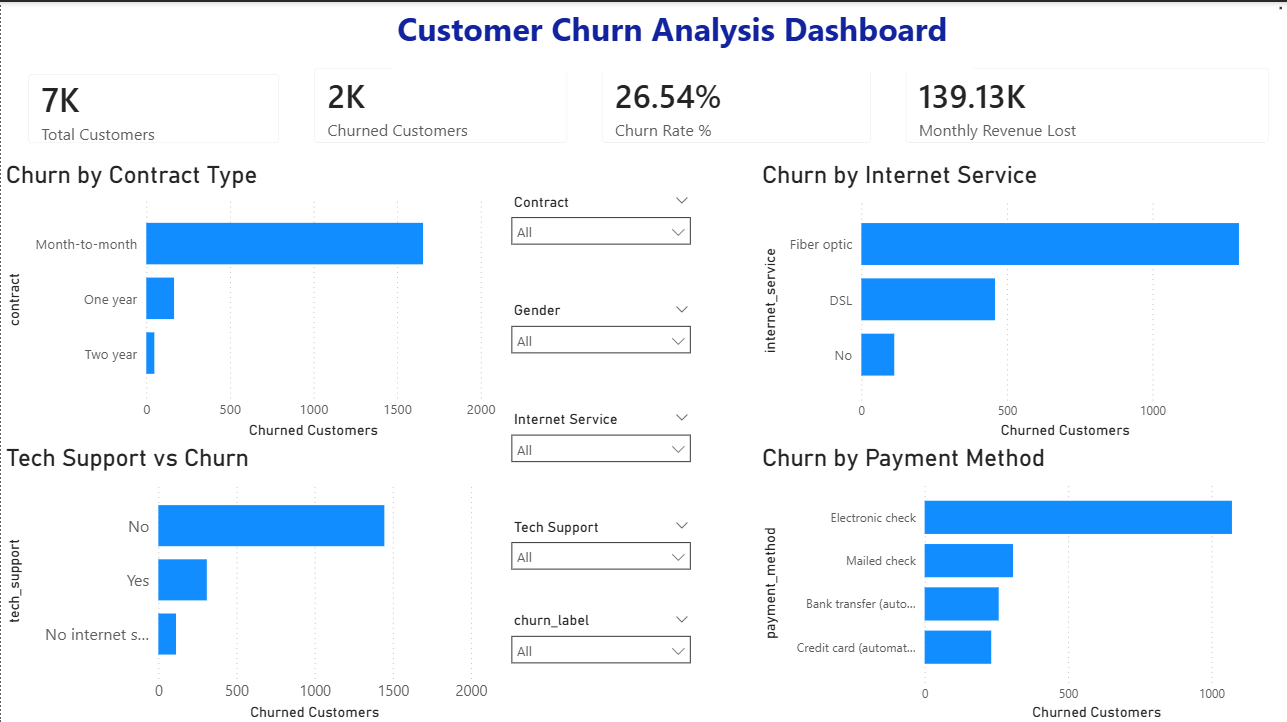

The page's visual inventory and layout, read from the dashboard file:
{"tool":"powerbi","page":{"name":"Executive Overview","canvas":[1280,720],"ordinal":0},"visuals":[{"type":"cardVisual","fields":{"Data":["cleaned_churn_data.Total Customers"]},"box":[10,54.7,284.9,103.2],"z":0},{"type":"cardVisual","fields":{"Data":["cleaned_churn_data.Churned Customers"]},"box":[294.8,48.5,286.1,109.5],"z":1000},{"type":"cardVisual","fields":{"Data":["cleaned_churn_data.Churn Rate %"]},"box":[580.9,48.5,302.3,109.5],"z":2000},{"type":"cardVisual","fields":{"Data":["cleaned_churn_data.Monthly Revenue Lost"]},"box":[883.2,48.5,396.8,109.5],"z":3000},{"type":"clusteredBarChart","title":"Churn by Contract Type","fields":{"Category":["cleaned_churn_data.contract"],"Y":["cleaned_churn_data.Churned Customers"]},"box":[0,158,497.6,281.1],"z":4000},{"type":"clusteredBarChart","title":"Churn by Internet Service","fields":{"Category":["cleaned_churn_data.internet_service"],"Y":["cleaned_churn_data.Churned Customers"]},"box":[752.6,158,527.4,281.1],"z":5000},{"type":"clusteredBarChart","title":"Churn by Payment Method","fields":{"Y":["cleaned_churn_data.Churned Customers"],"Category":["cleaned_churn_data.payment_method"]},"box":[752.6,439.1,527.4,281.1],"z":6000},{"type":"clusteredBarChart","title":"Tech Support vs Churn","fields":{"Y":["cleaned_churn_data.Churned Customers"],"Category":["cleaned_churn_data.tech_support"]},"box":[0,439.1,488.9,281.1],"z":7000},{"type":"slicer","fields":{"Values":["cleaned_churn_data.contract"]},"box":[497.6,185.3,199,59.7],"z":7001},{"type":"slicer","fields":{"Values":["cleaned_churn_data.gender"]},"box":[497.6,293.6,199,65.9],"z":7002},{"type":"slicer","fields":{"Values":["cleaned_churn_data.internet_service"]},"box":[497.6,401.8,199,73.4],"z":7003},{"type":"slicer","fields":{"Values":["cleaned_churn_data.tech_support"]},"box":[497.6,508.8,199,75.9],"z":7004},{"type":"slicer","fields":{"Values":["cleaned_churn_data.churn_label"]},"box":[497.6,602.1,199,70.9],"z":7005},{"type":"textbox","box":[389.4,0,578.4,69.7],"z":7006},{"type":"textbox","box":[1267.6,0,12.4,12.4],"z":7007}]}

Visuals, with their boxes in screenshot pixels (x1, y1, x2, y2), scaled from the page's 1280x720 canvas onto the 1287x722 screenshot:
cardVisual - cleaned_churn_data.Total Customers: rect(10, 55, 297, 158)
cardVisual - cleaned_churn_data.Churned Customers: rect(296, 49, 584, 158)
cardVisual - cleaned_churn_data.Churn Rate %: rect(584, 49, 888, 158)
cardVisual - cleaned_churn_data.Monthly Revenue Lost: rect(888, 49, 1286, 158)
"Churn by Contract Type" clusteredBarChart: rect(0, 158, 500, 440)
"Churn by Internet Service" clusteredBarChart: rect(757, 158, 1286, 440)
"Churn by Payment Method" clusteredBarChart: rect(757, 440, 1286, 721)
"Tech Support vs Churn" clusteredBarChart: rect(0, 440, 492, 721)
slicer - cleaned_churn_data.contract: rect(500, 186, 700, 246)
slicer - cleaned_churn_data.gender: rect(500, 294, 700, 360)
slicer - cleaned_churn_data.internet_service: rect(500, 403, 700, 477)
slicer - cleaned_churn_data.tech_support: rect(500, 510, 700, 586)
slicer - cleaned_churn_data.churn_label: rect(500, 604, 700, 675)
textbox: rect(392, 0, 973, 70)
textbox: rect(1275, 0, 1286, 12)
